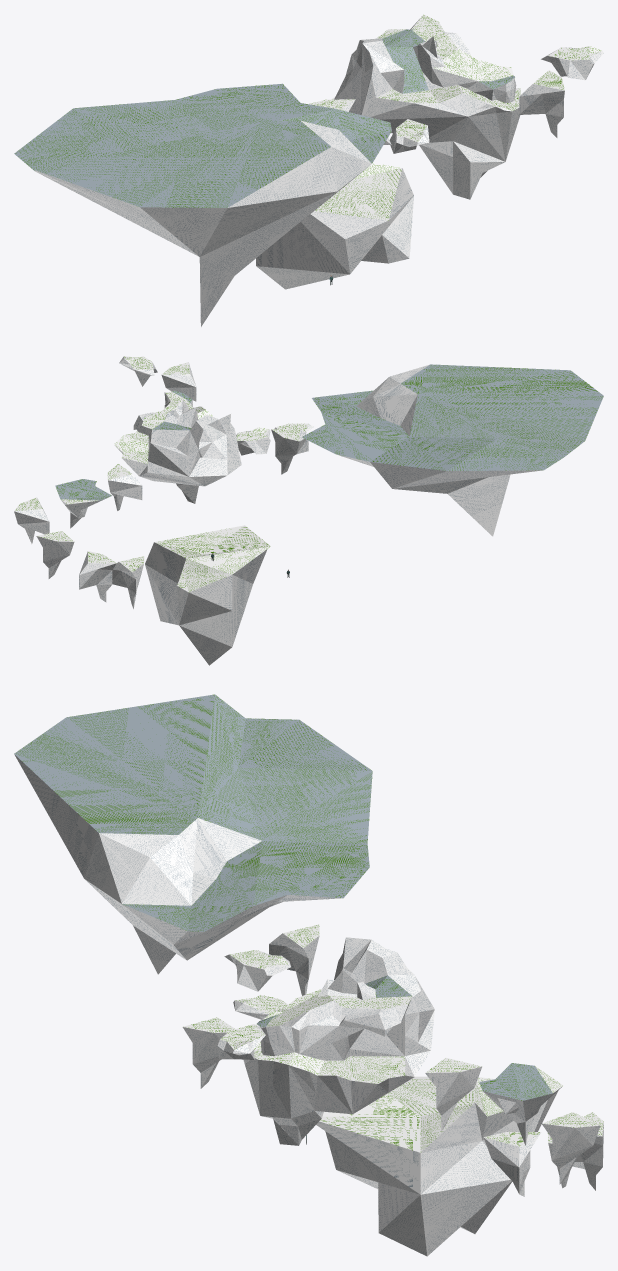
The model's file is Island Chain.obj.
The picture shows the model from 3 angles, top to bottom: view 1: azimuth 30°, elevation 25°; view 2: azimuth 150°, elevation 25°; view 3: azimuth 270°, elevation 25°; orthographic projection. The views are drawn at different scales.
Parts seen in each view (by area): view 1: Mesh23 Model, Mesh13 Model, Mesh11 Model, Mesh15 Model, Mesh21 Model, Mesh22 Model; view 2: Mesh23 Model, Mesh11 Model, Mesh13 Model, Mesh16 Model, Mesh17 Model, Mesh25 Model, Mesh20 Model, Mesh14 Model, Mesh18 Model, Mesh12 Model, Mesh15 Model, Mesh22 Model (+1 smaller); view 3: Mesh23 Model, Mesh13 Model, Mesh11 Model, Mesh16 Model, Mesh18 Model, Mesh14 Model, Mesh12 Model, Mesh25 Model, Mesh15 Model, Mesh24 Model, Mesh21 Model, Mesh20 Model (+1 smaller).
Boxes of the visible parts, left/top/right/bottom form: Mesh23 Model: left=14, top=83, right=391, bottom=326; Mesh13 Model: left=334, top=28, right=520, bottom=199; Mesh11 Model: left=256, top=163, right=413, bottom=289; Mesh15 Model: left=519, top=70, right=564, bottom=137; Mesh21 Model: left=541, top=46, right=603, bottom=80; Mesh22 Model: left=389, top=119, right=429, bottom=153; Mesh23 Model: left=301, top=364, right=603, bottom=536; Mesh11 Model: left=145, top=525, right=270, bottom=665; Mesh13 Model: left=114, top=390, right=241, bottom=503; Mesh16 Model: left=55, top=479, right=111, bottom=528; Mesh17 Model: left=79, top=551, right=116, bottom=602; Mesh25 Model: left=271, top=429, right=308, bottom=474; Mesh20 Model: left=36, top=531, right=74, bottom=578; Mesh14 Model: left=107, top=463, right=142, bottom=510; Mesh18 Model: left=14, top=497, right=49, bottom=543; Mesh12 Model: left=112, top=556, right=144, bottom=608; Mesh15 Model: left=161, top=362, right=196, bottom=401; Mesh22 Model: left=236, top=427, right=270, bottom=455; Mesh23 Model: left=14, top=694, right=372, bottom=974; Mesh13 Model: left=243, top=937, right=434, bottom=1145; Mesh11 Model: left=316, top=1076, right=558, bottom=1256; Mesh16 Model: left=479, top=1063, right=563, bottom=1145; Mesh18 Model: left=542, top=1112, right=600, bottom=1184; Mesh14 Model: left=425, top=1058, right=482, bottom=1131; Mesh12 Model: left=483, top=1132, right=541, bottom=1196; Mesh25 Model: left=269, top=924, right=319, bottom=995; Mesh15 Model: left=182, top=1017, right=235, bottom=1088; Mesh24 Model: left=224, top=950, right=290, bottom=991; Mesh21 Model: left=217, top=1024, right=265, bottom=1059; Mesh20 Model: left=575, top=1112, right=603, bottom=1190.
Bounding box in the file's own units: 98.71 × 47.5 × 75.73.
